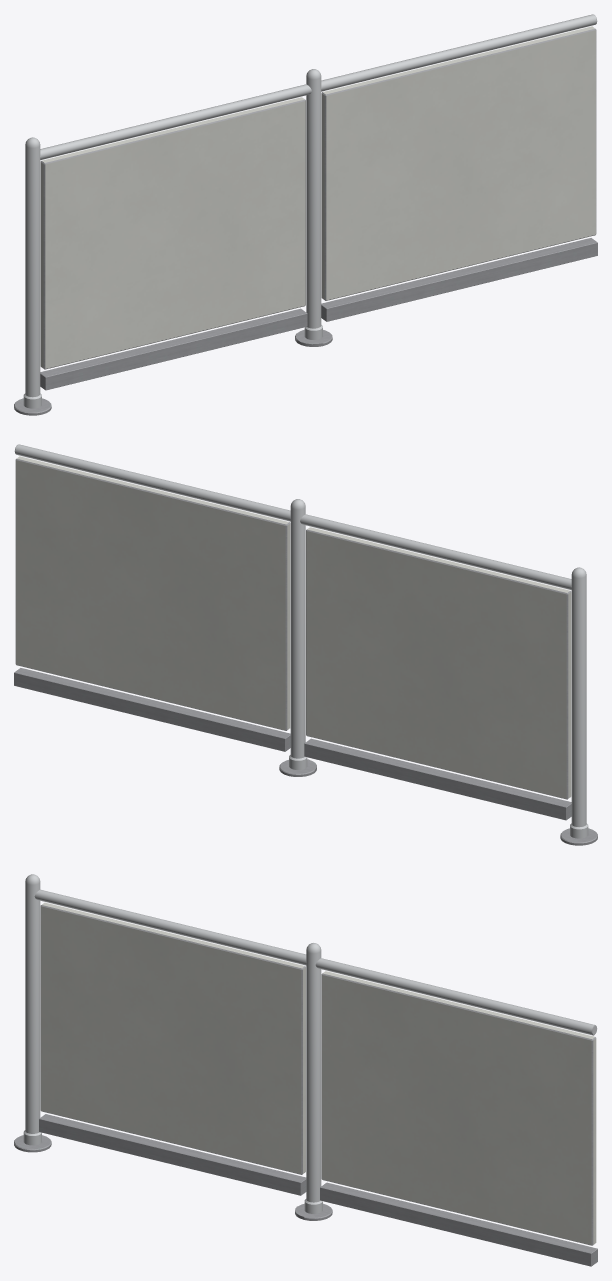
Rendered from gteki_barrier_rail_2400_solid.glb.
3 views of the same model, one above another, from view 1: azimuth 30°, elevation 25°; view 2: azimuth 150°, elevation 25°; view 3: azimuth 330°, elevation 25° (orthographic).
Visible parts, largest first — view 1: VIS_infill, VIS_rails, VIS_posts; view 2: VIS_infill, VIS_rails, VIS_posts; view 3: VIS_infill, VIS_rails, VIS_posts.
Part boxes in pixels (box(x1,y1,x2,y2)): VIS_infill: box(40, 26, 596, 369); VIS_rails: box(40, 14, 597, 390); VIS_posts: box(14, 69, 332, 415); VIS_infill: box(15, 456, 571, 799); VIS_rails: box(14, 444, 571, 820); VIS_posts: box(279, 499, 597, 845); VIS_infill: box(40, 902, 596, 1245); VIS_rails: box(34, 889, 597, 1266); VIS_posts: box(14, 874, 332, 1220).
Size of what is drawn, in the model's own units: 2.47 by 1.1 by 0.14.
Materials: 3 (2 with a texture image).
